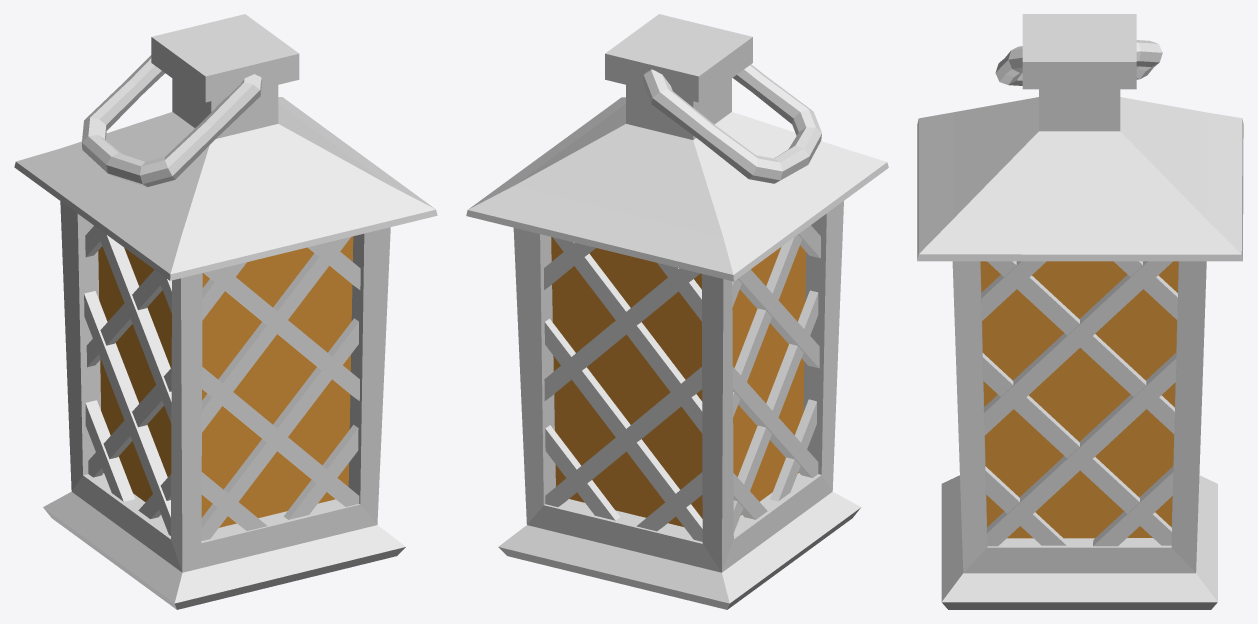
File: SM_Lantern_Medium_03.fbx
3 renders of one model, left to right at view 1: azimuth 30°, elevation 25°; view 2: azimuth 150°, elevation 25°; view 3: azimuth 270°, elevation 25°, orthographic. The views are drawn at different scales.
Visible parts, largest first — view 1: Cube.005, Torus.002, Cube.033, Cube.017, Cube.010, Cube.016, Cube.008, Cube.032, Cube.035, Cube.037, Cube.019, Cube.036 (+5 smaller); view 2: Cube.005, Torus.002, Cube.029, Cube.025, Cube.028, Cube.024, Cube.037, Cube.033, Cube.032, Cube.036, Cube.031, Cube.039 (+4 smaller); view 3: Cube.005, Cube.041, Cube.040, Cube.045, Cube.044, Cube.043, Cube.047, Torus.002, Cube.042, Cube.046.
Part boxes in pixels (<box>): Cube.005: <box>14,14,437,609</box>; Torus.002: <box>82,55,261,186</box>; Cube.033: <box>84,291,170,535</box>; Cube.017: <box>201,318,358,540</box>; Cube.010: <box>202,367,359,506</box>; Cube.016: <box>202,237,350,432</box>; Cube.008: <box>203,267,359,400</box>; Cube.032: <box>95,226,171,423</box>; Cube.035: <box>85,400,134,501</box>; Cube.037: <box>88,368,171,477</box>; Cube.019: <box>283,424,358,519</box>; Cube.036: <box>86,270,162,367</box>; Cube.005: <box>466,14,888,609</box>; Torus.002: <box>643,64,821,183</box>; Cube.029: <box>544,318,702,541</box>; Cube.025: <box>545,367,701,506</box>; Cube.028: <box>553,237,702,433</box>; Cube.024: <box>544,268,700,400</box>; Cube.037: <box>733,290,818,532</box>; Cube.033: <box>732,366,818,477</box>; Cube.032: <box>738,269,819,368</box>; Cube.036: <box>733,235,801,417</box>; Cube.031: <box>545,425,619,520</box>; Cube.039: <box>770,399,816,501</box>; Cube.005: <box>917,14,1243,609</box>; Cube.041: <box>987,353,1176,546</box>; Cube.040: <box>984,261,1172,435</box>; Cube.045: <box>982,353,1171,545</box>; Cube.044: <box>987,261,1174,434</box>; Cube.043: <box>1093,466,1173,546</box>; Cube.047: <box>985,466,1066,545</box>; Torus.002: <box>995,40,1162,85</box>; Cube.042: <box>981,261,1046,321</box>; Cube.046: <box>1114,261,1177,319</box>.
Bounding box in the file's own units: 45.36 × 79.51 × 45.53.
